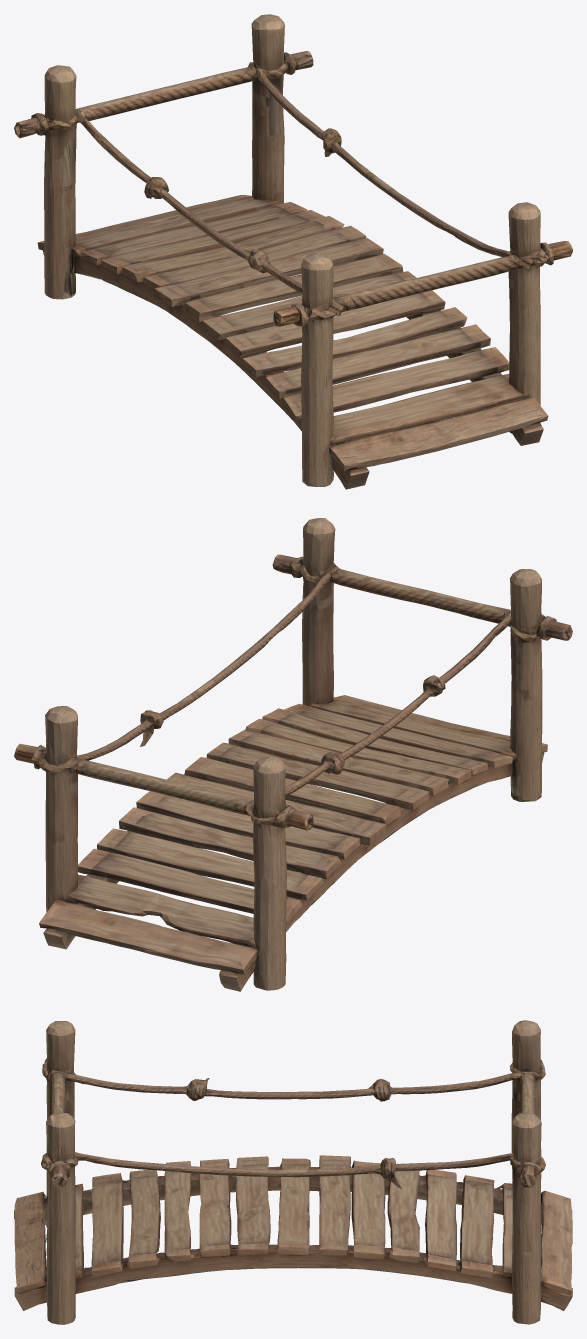
Rendered from A_simple_village_brid_0430170421_texture.fbx.
The picture shows the model from 3 angles, top to bottom: view 1: azimuth 30°, elevation 25°; view 2: azimuth 150°, elevation 25°; view 3: azimuth 270°, elevation 25°; orthographic projection. The views are drawn at different scales.
Parts seen in each view (by area): view 1: temp; view 2: temp; view 3: temp.
Part boxes in pixels (x1,y1,x2,y2): temp: (14,14,572,489); temp: (14,518,572,991); temp: (14,1020,572,1324).
Size of the model in its own units: 110 by 80.66 by 200.
Materials: 1 (1 with a texture image).
